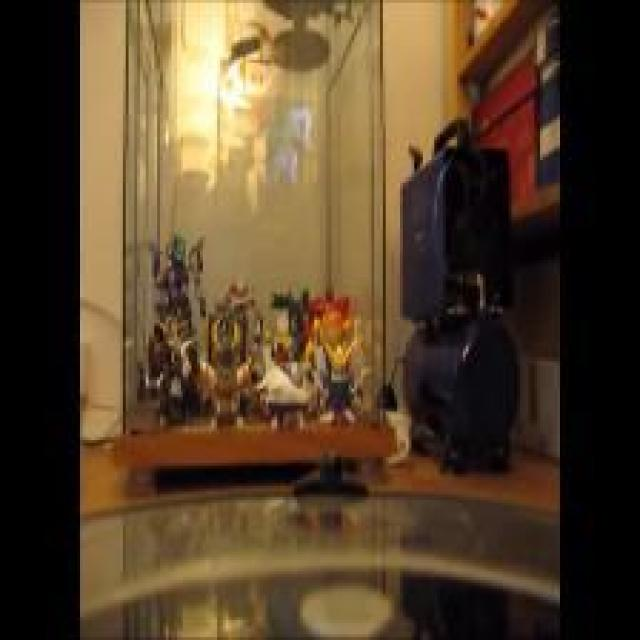other: (170, 45, 260, 167), (308, 292, 362, 371)
